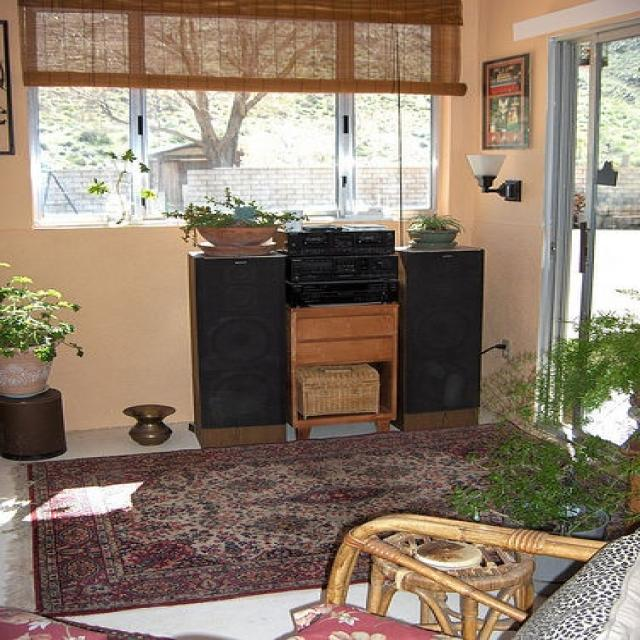chair: (1, 512, 636, 639)
pottedplant: (448, 432, 611, 600), (0, 258, 83, 398), (162, 186, 310, 256), (406, 212, 464, 248)
